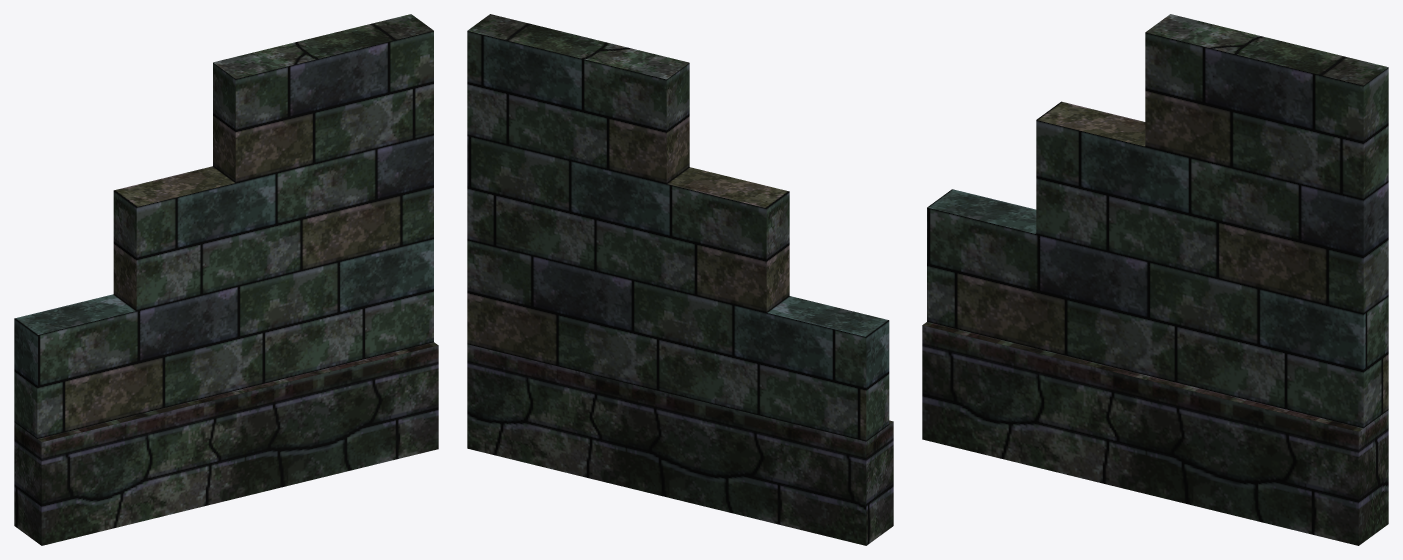
Rendered from SM_CastleWall1x1BrokenV1.fbx.
The picture shows the model from 3 angles, left to right: view 1: azimuth 30°, elevation 25°; view 2: azimuth 150°, elevation 25°; view 3: azimuth 330°, elevation 25°; orthographic projection. The views are drawn at different scales.
Visible parts, largest first — view 1: SM_CastleWall1x1BrokenV1; view 2: SM_CastleWall1x1BrokenV1; view 3: SM_CastleWall1x1BrokenV1.
Part boxes in pixels (bbox=[...]): SM_CastleWall1x1BrokenV1: bbox=[14, 14, 438, 545]; SM_CastleWall1x1BrokenV1: bbox=[467, 14, 893, 545]; SM_CastleWall1x1BrokenV1: bbox=[922, 14, 1388, 545].
Bounding box in the file's own units: 2000 × 2000 × 238.
